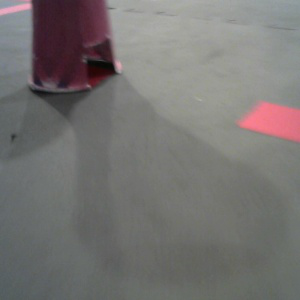middle: (25, 1, 124, 95)
